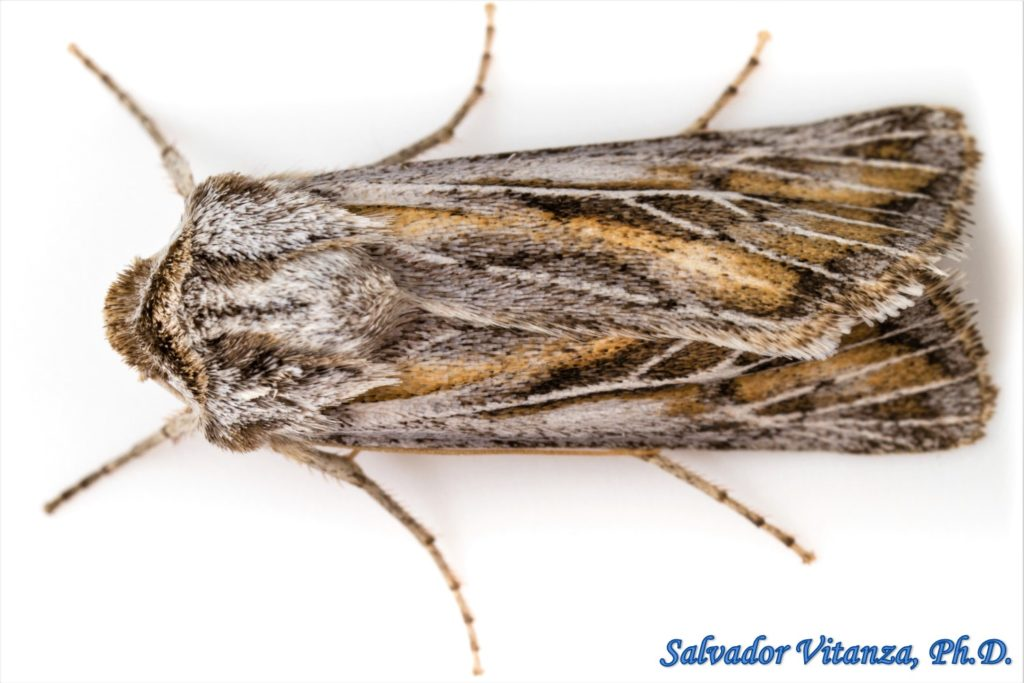Noctuidae: (41, 1, 1001, 641)
